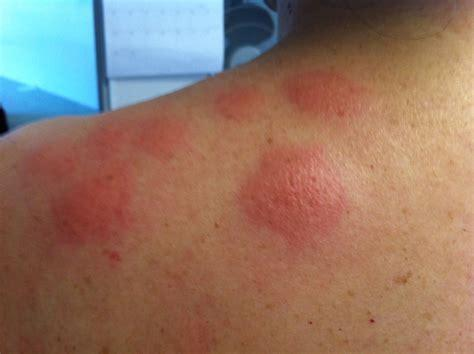Conenose Bite: (232, 136, 358, 260), (58, 156, 128, 268), (281, 56, 369, 137), (139, 109, 191, 164), (26, 133, 73, 187), (208, 83, 266, 125), (85, 120, 138, 159)
